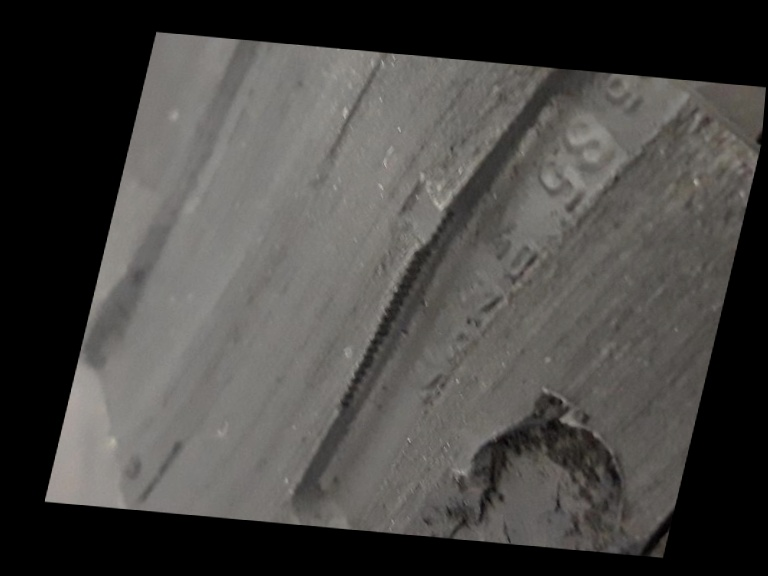temoin:0: (372, 165, 475, 269)
